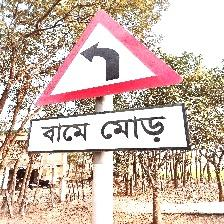Left-Turn: (30, 7, 188, 152)
